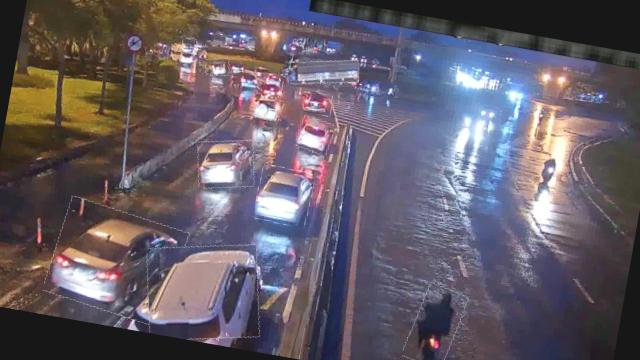Bike: (404, 282, 466, 360), (538, 154, 560, 189)
Car: (43, 198, 188, 326), (136, 232, 270, 351), (252, 163, 315, 228), (192, 134, 259, 194), (294, 115, 334, 156), (252, 94, 283, 122), (300, 91, 332, 117), (254, 76, 283, 104), (203, 56, 230, 78)
Truck: (286, 52, 360, 92)
